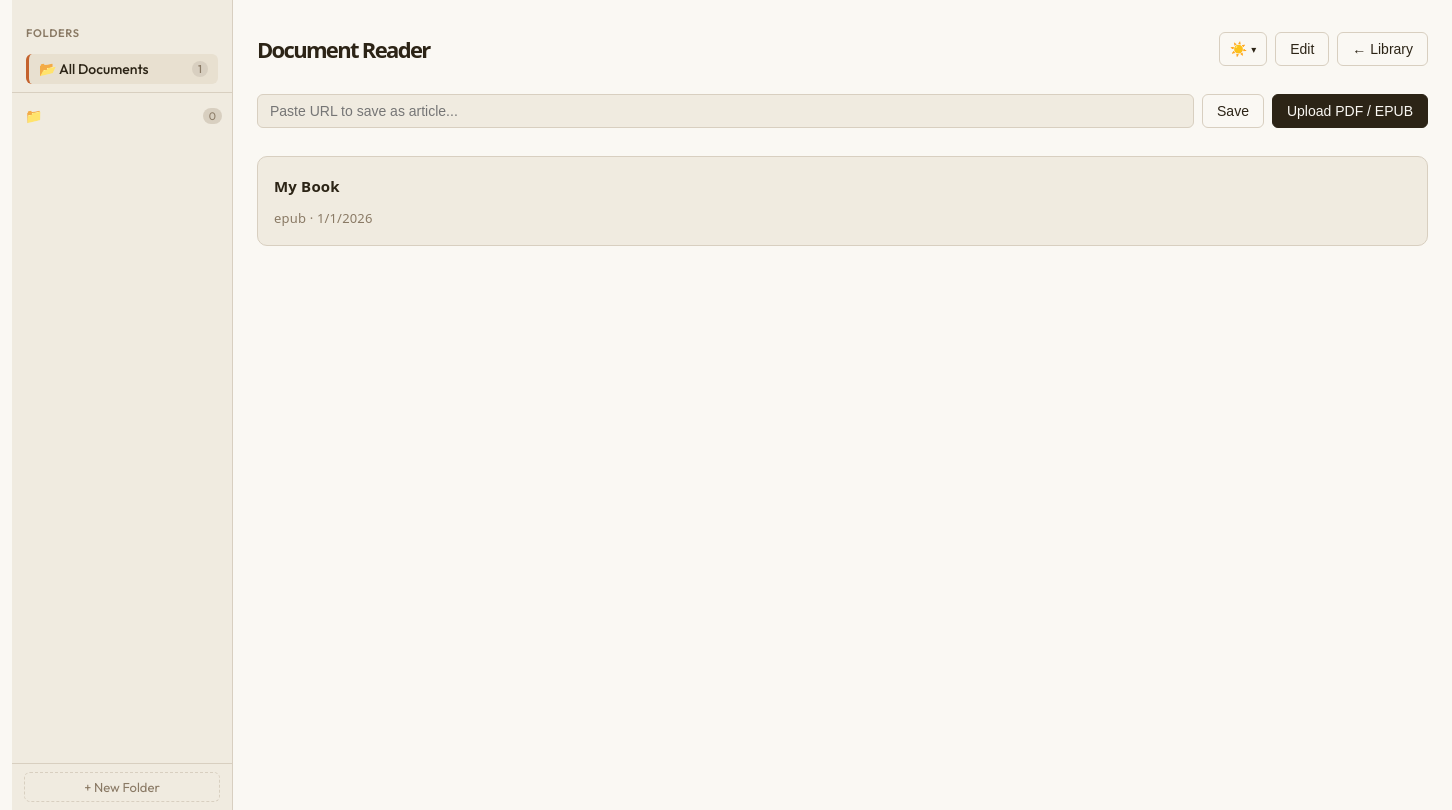
it: cancel restores normal card view
The image size is (1452, 810).
Expected: the text "My Book" is shown, [274,176,340,196]
Click the button "Edit". click: {"x": 1302, "y": 49}
box: [1275,32,1329,66]
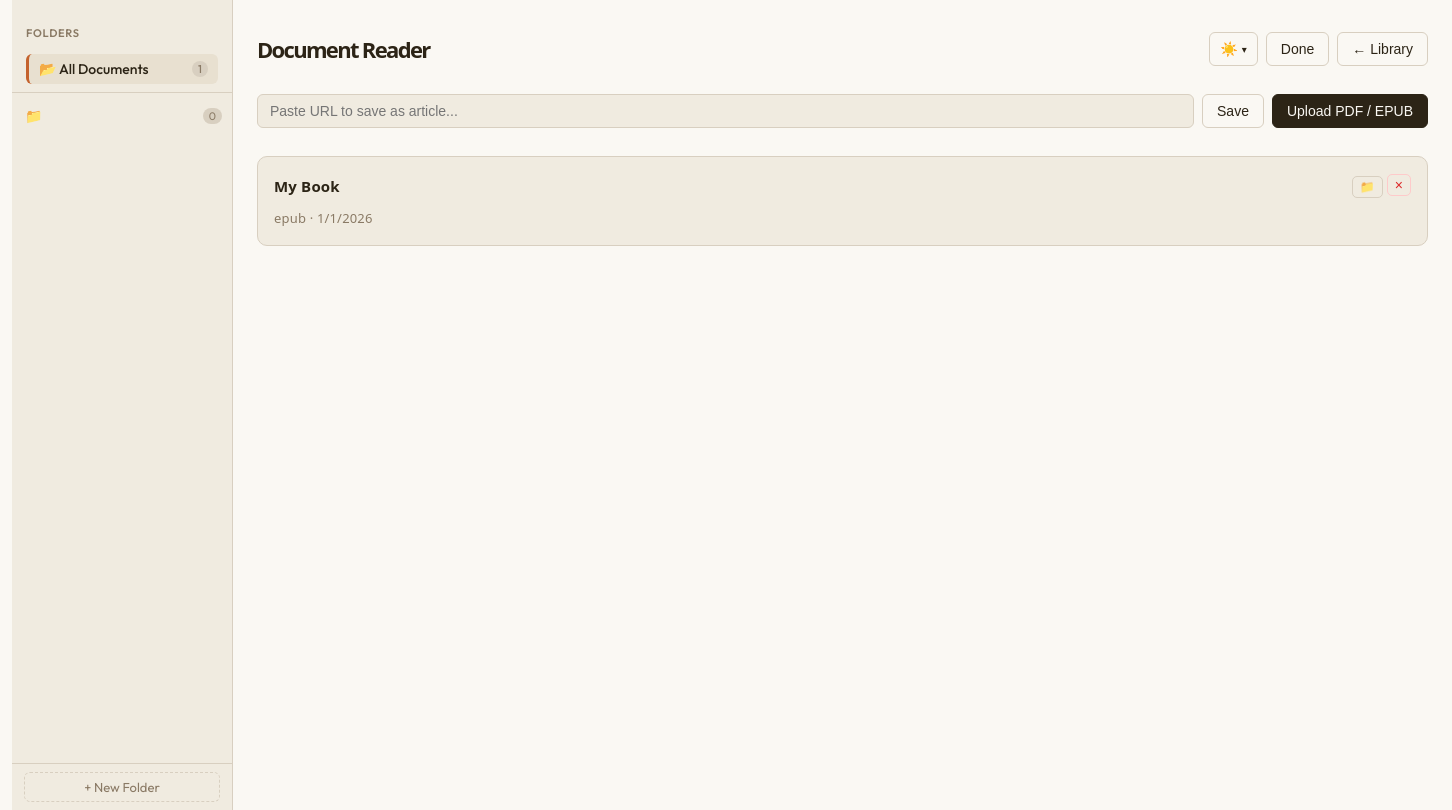
Click the button named "delete my book". click: {"x": 1399, "y": 184}
box: [1387,174,1411,196]
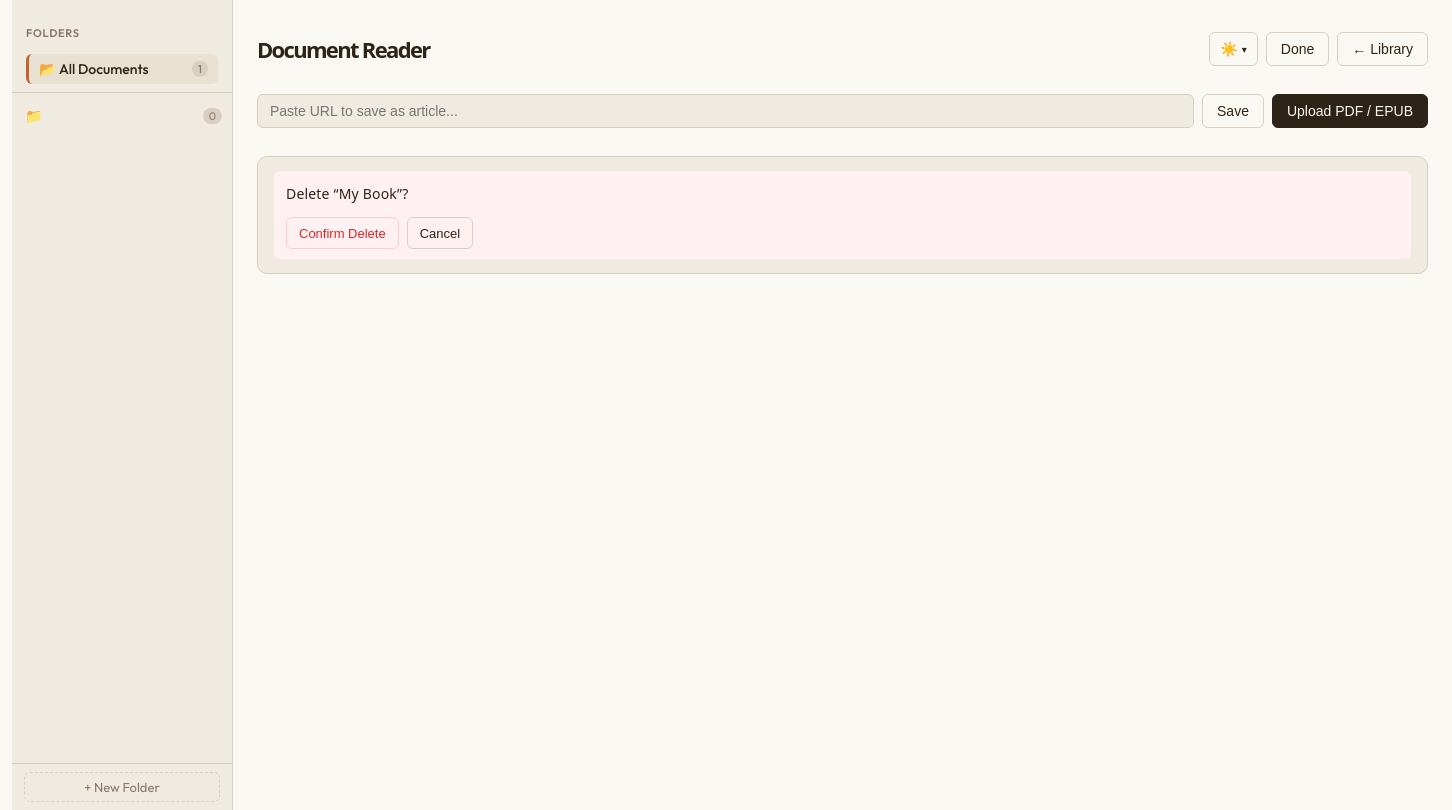
Expected: the button "Confirm Delete" is shown, [286,217,399,249]
Click the button "Cancel". click: {"x": 440, "y": 233}
box: [407,217,473,249]
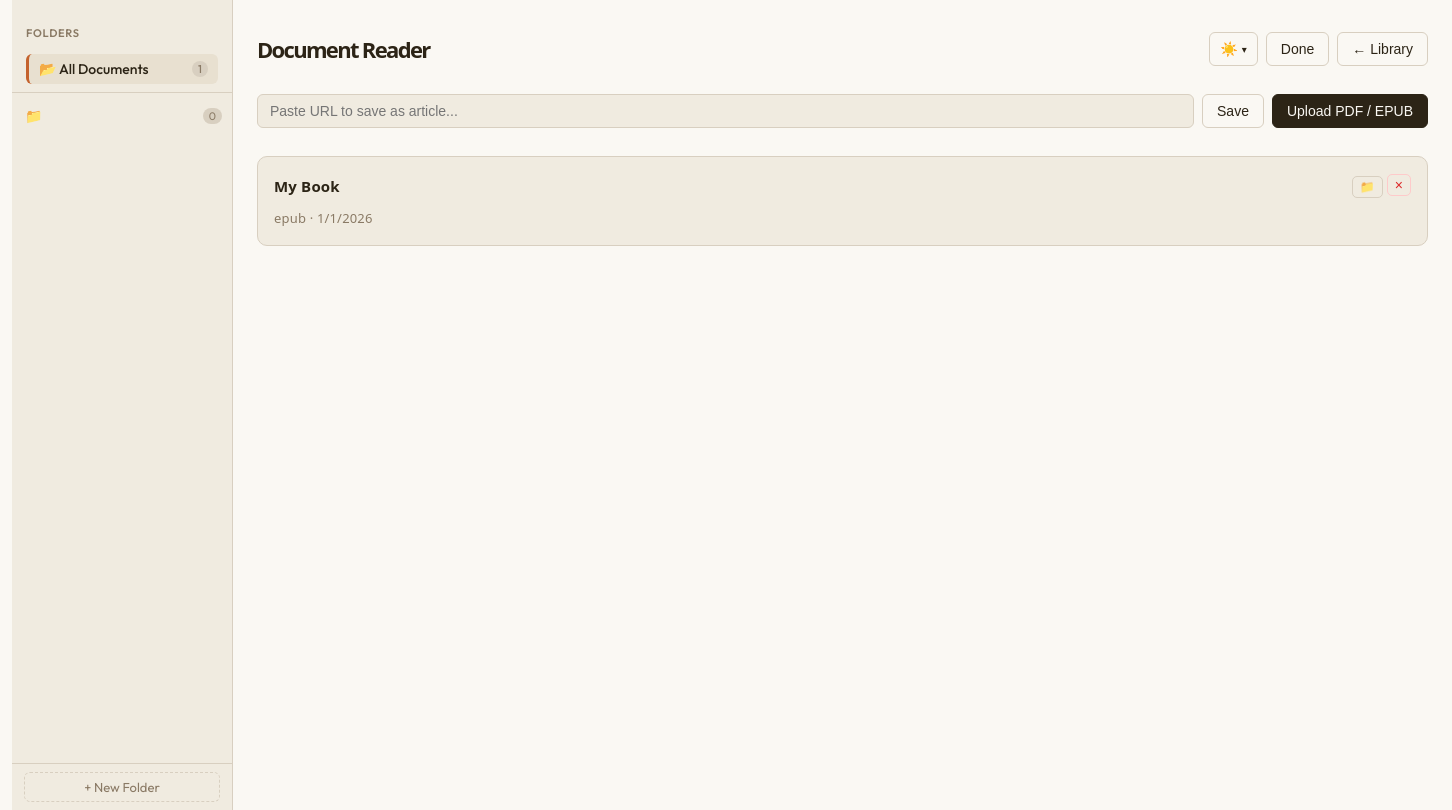
Expected: the button "Confirm Delete" is gone
Expected: the button named "delete my book" is shown, [1387,174,1411,196]
